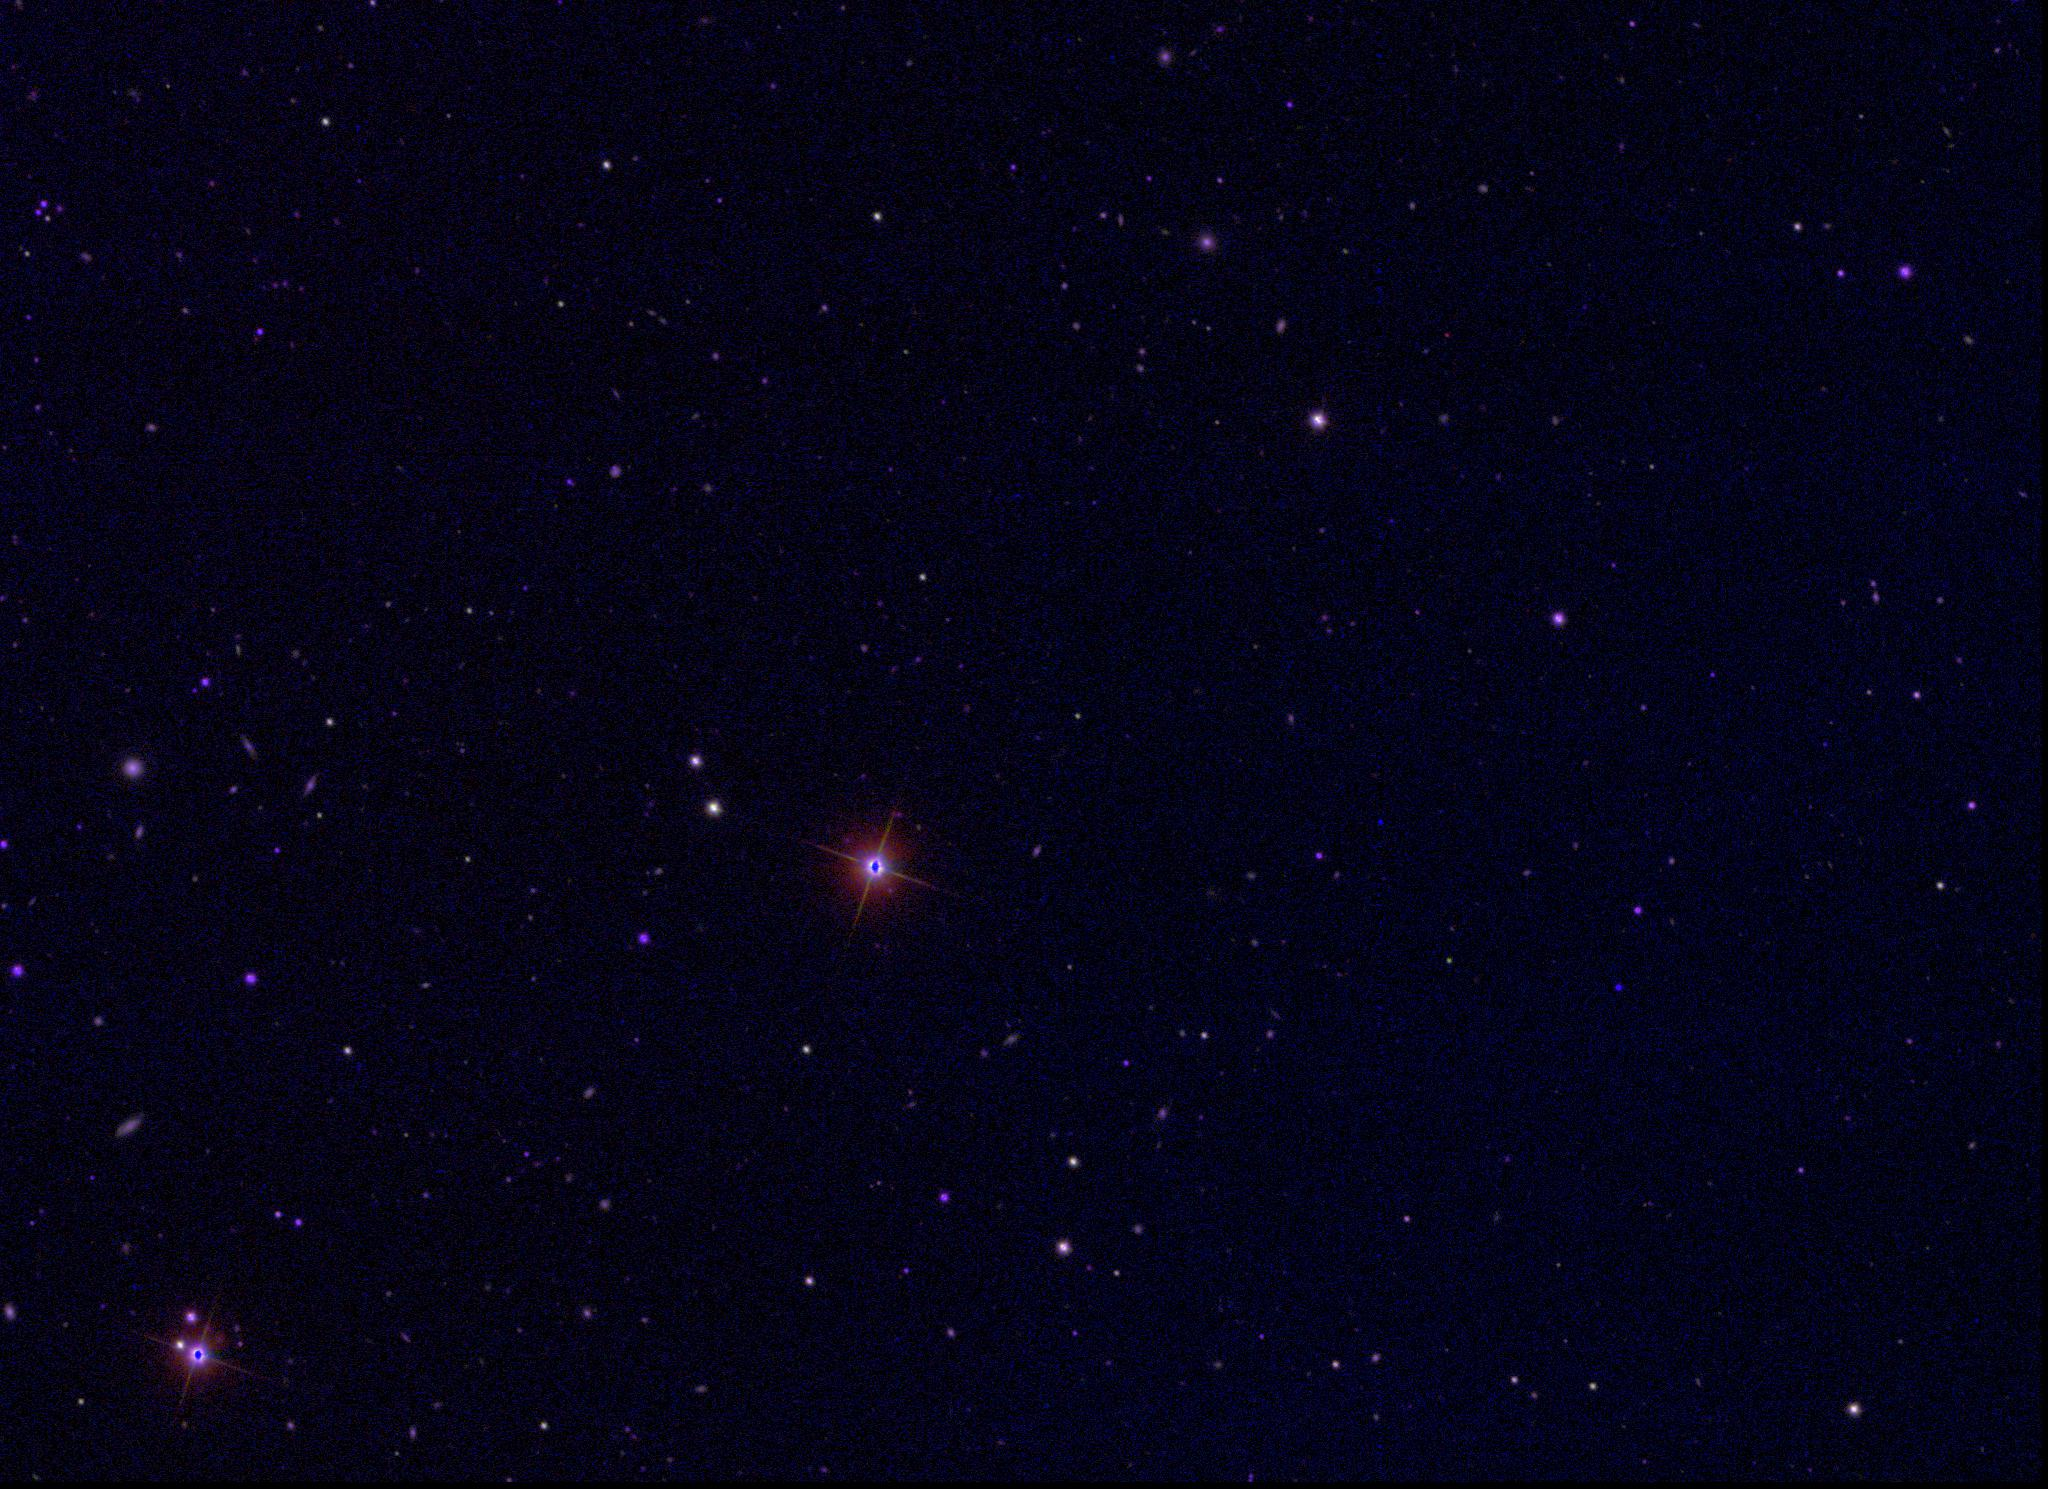L: (1612, 980, 1627, 994)
